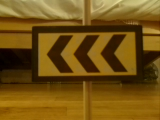left: (33, 27, 142, 79)
